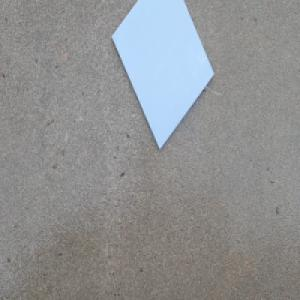PaintChip: (111, 0, 215, 150)
